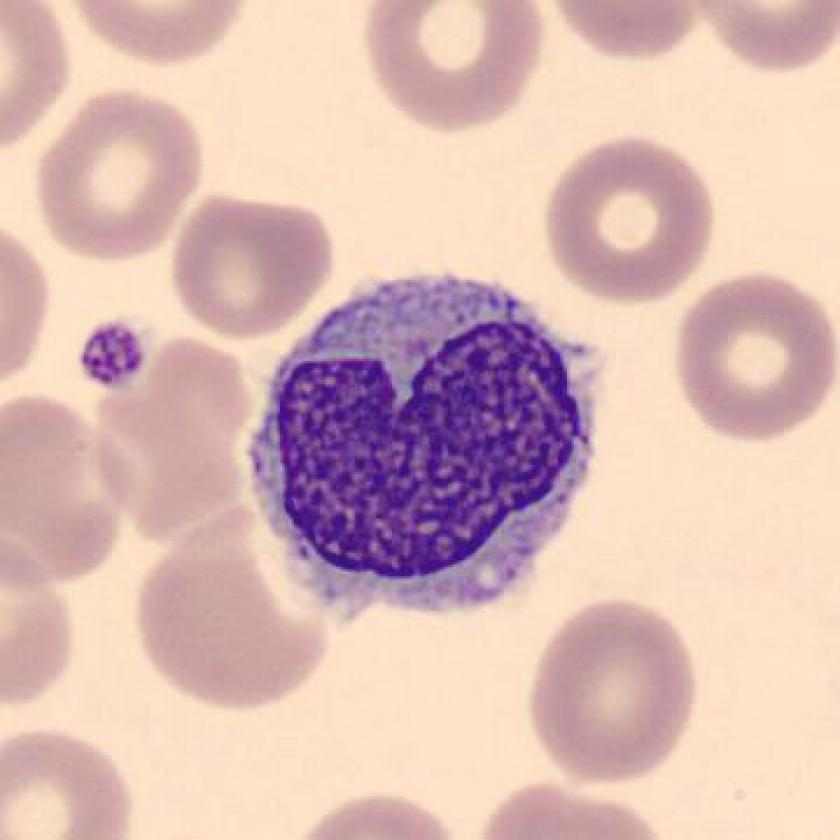monocyte: (225, 246, 631, 649)
